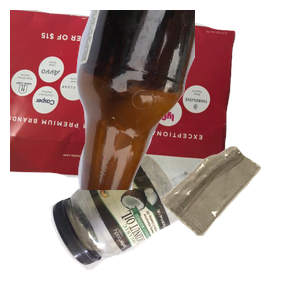glass: (60, 10, 300, 190)
paper: (10, 10, 238, 190)
plastic: (48, 152, 228, 300)
trash: (158, 144, 300, 300)
